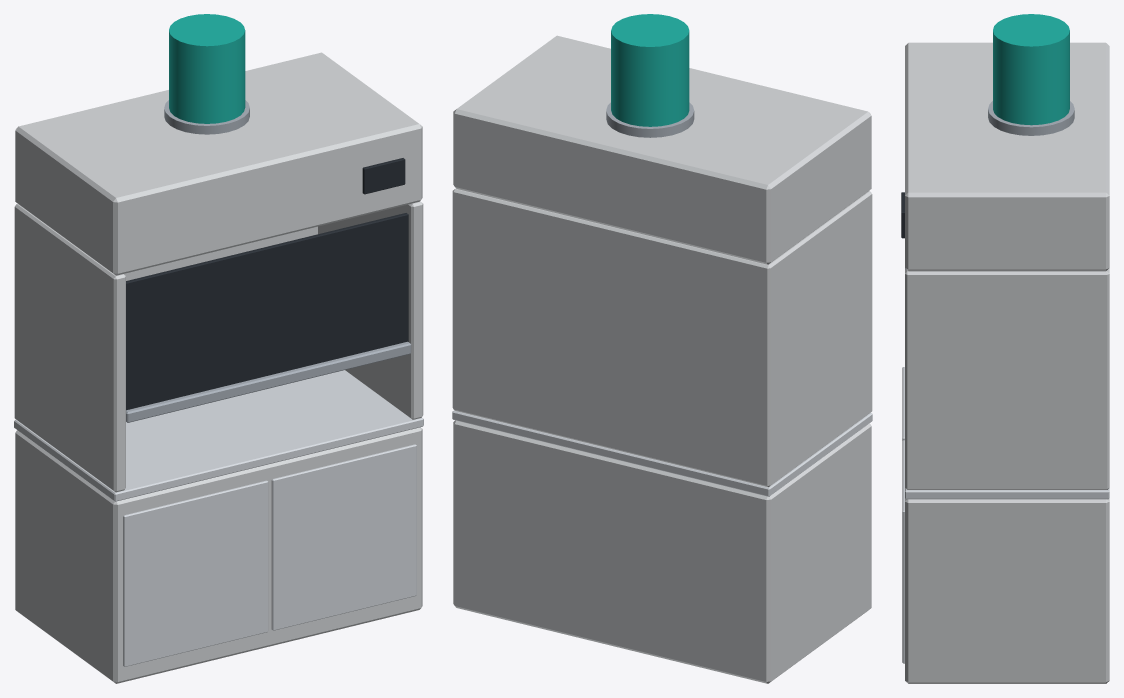
File: fume-hood.glb
3 renders of one model, left to right at view 1: azimuth 30°, elevation 25°; view 2: azimuth 150°, elevation 25°; view 3: azimuth 270°, elevation 25°, orthographic. The views are drawn at different scales.
Visible parts, largest first — view 1: fume-hood; view 2: fume-hood; view 3: fume-hood.
Part boxes in pixels (bbox=[...]): fume-hood: bbox=[14, 14, 423, 683]; fume-hood: bbox=[452, 14, 872, 683]; fume-hood: bbox=[901, 14, 1109, 683].
Bounding box in the file's own units: 1.5 × 2.65 × 0.865.
